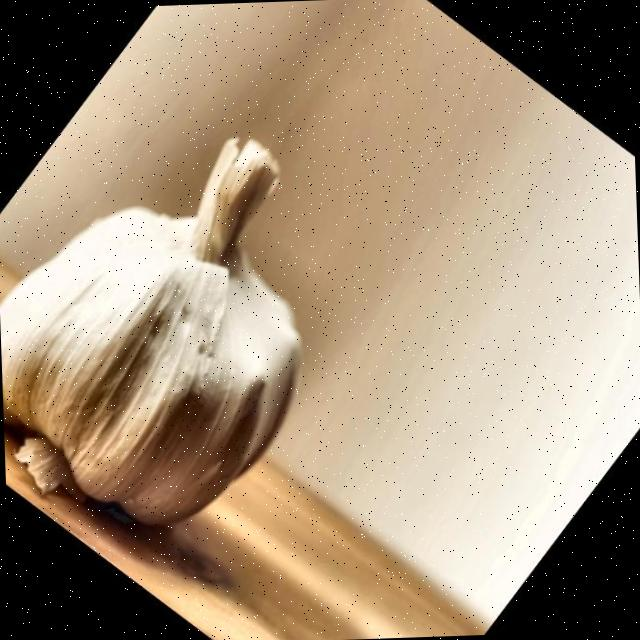garlic: (0, 138, 300, 522)
